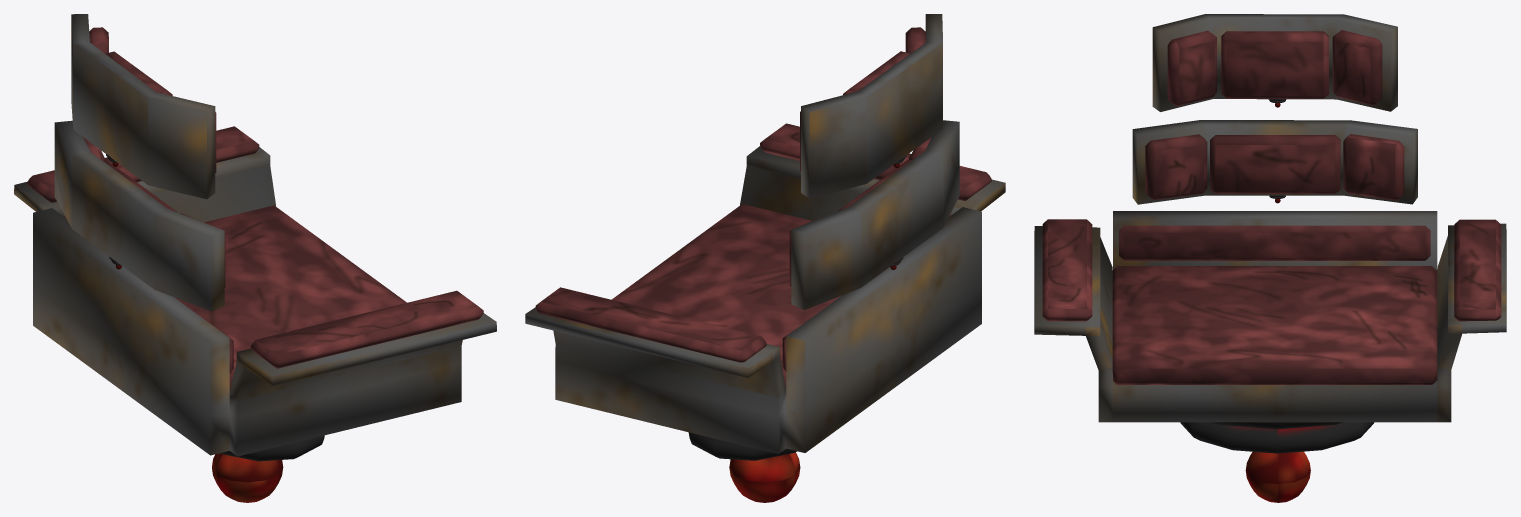
The model's file is space chair.fbx_Collection.fbx.
3 renders of one model, left to right at view 1: azimuth 30°, elevation 25°; view 2: azimuth 150°, elevation 25°; view 3: azimuth 270°, elevation 25°, orthographic. The views are drawn at different scales.
Visible parts, largest first — view 1: Cube, Cube.001, Sphere, Torus; view 2: Cube, Cube.001, Sphere, Torus; view 3: Cube.001, Cube, Torus, Sphere.
Part boxes in pixels (x1,y1,x2,y2): Cube: [14, 14, 496, 456]; Cube.001: [27, 27, 483, 390]; Sphere: [112, 162, 283, 502]; Torus: [106, 154, 324, 461]; Cube: [525, 14, 1005, 453]; Cube.001: [535, 27, 991, 394]; Sphere: [729, 163, 899, 502]; Torus: [688, 155, 906, 460]; Cube.001: [1042, 30, 1501, 384]; Cube: [1034, 14, 1506, 422]; Torus: [1180, 99, 1374, 453]; Sphere: [1245, 103, 1310, 502].
Bounding box in the file's own units: 411 × 721 × 714.
4 materials, 4 textured.
